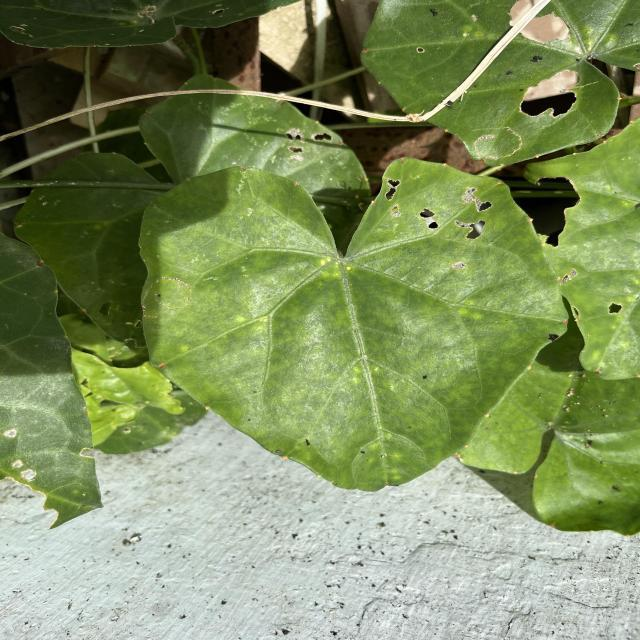Coccinia grandis: (134, 153, 574, 497)
